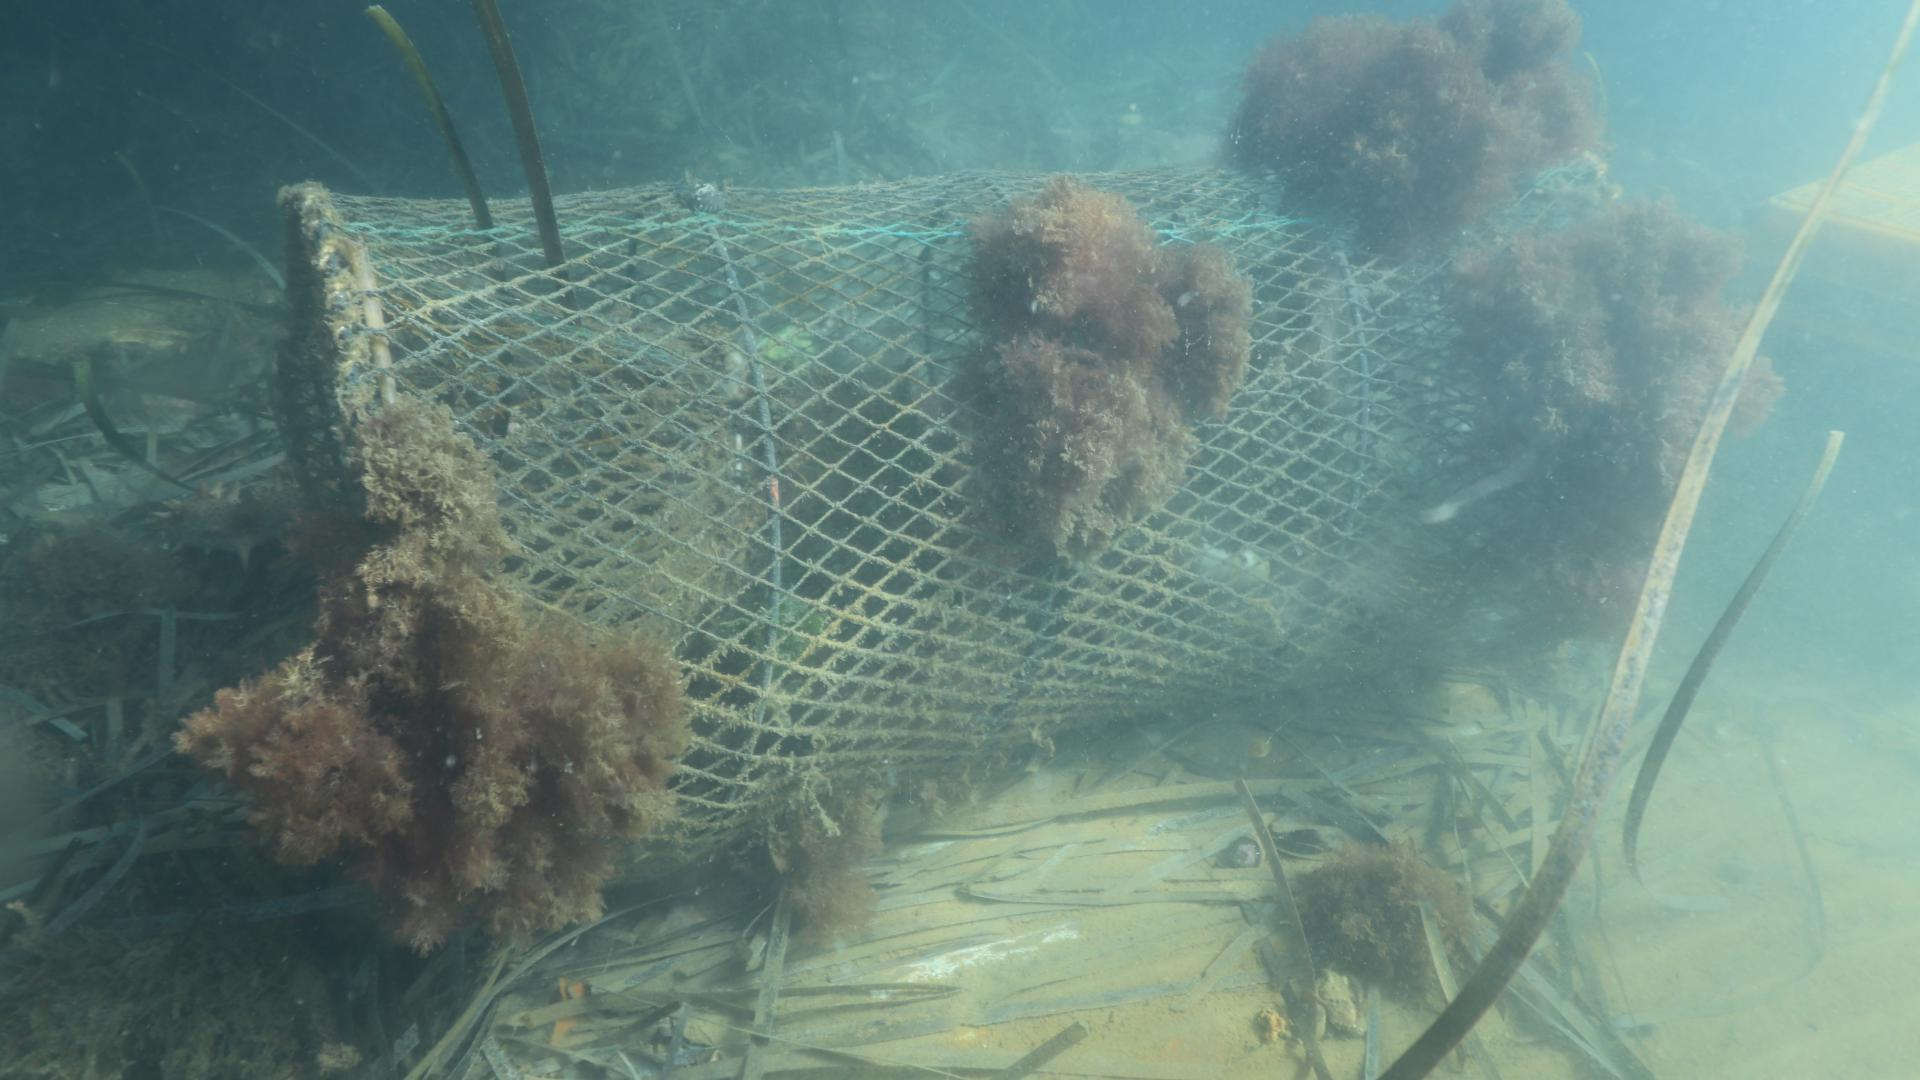spring fish trap: (269, 145, 1627, 885)
